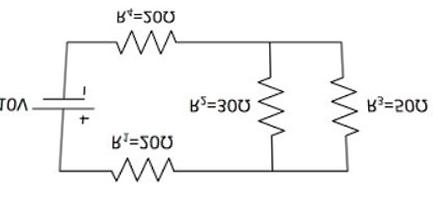resistor: (94, 22, 182, 69), (324, 65, 367, 142), (252, 63, 285, 158), (96, 150, 179, 187)
